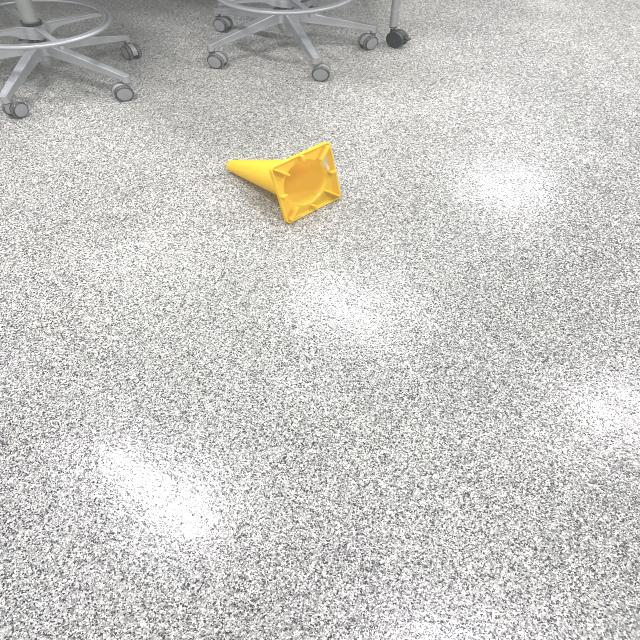frc_cone: (223, 140, 350, 221)
